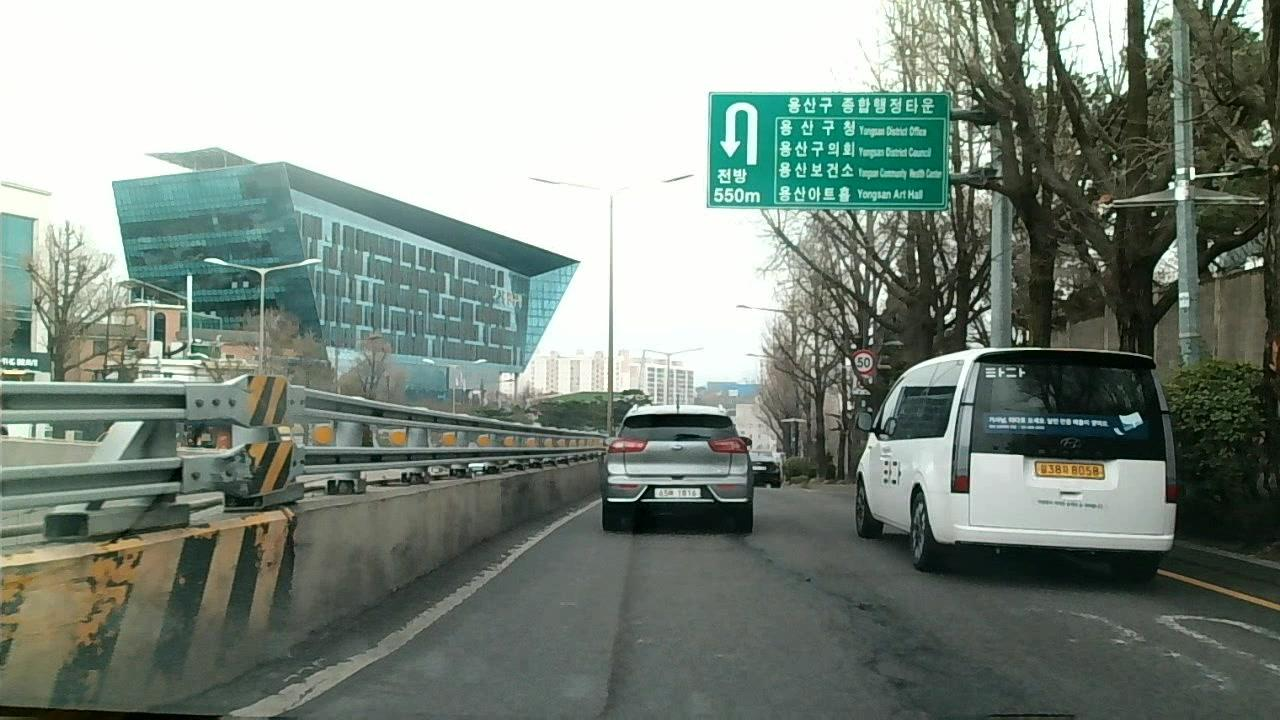banner: (829, 590, 936, 701), (738, 536, 824, 583)
